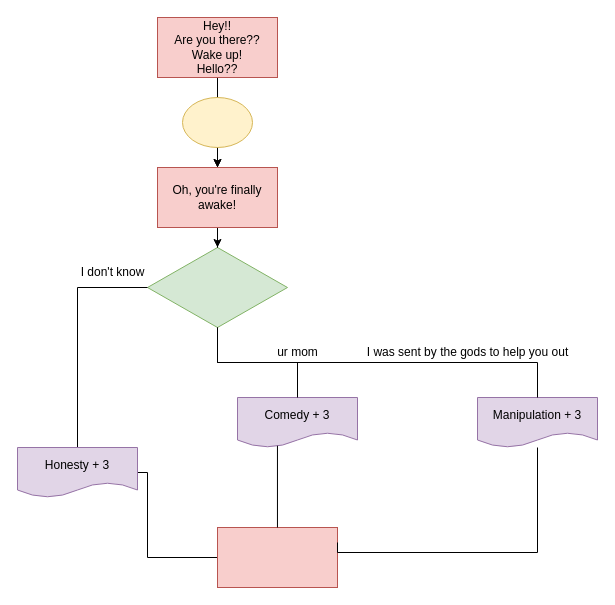
Some shapes in this 615 by 605 pixel diagram are drawn without their labels. The shapes that lost their labels are listed below. From the top down, each one's box as (x1, y1, x2, y2) in pixels, then its label:
(182, 96, 252, 148): Player wakes up
(146, 246, 288, 328): What happened to you?
(216, 526, 338, 588): Either way, we have to go!
